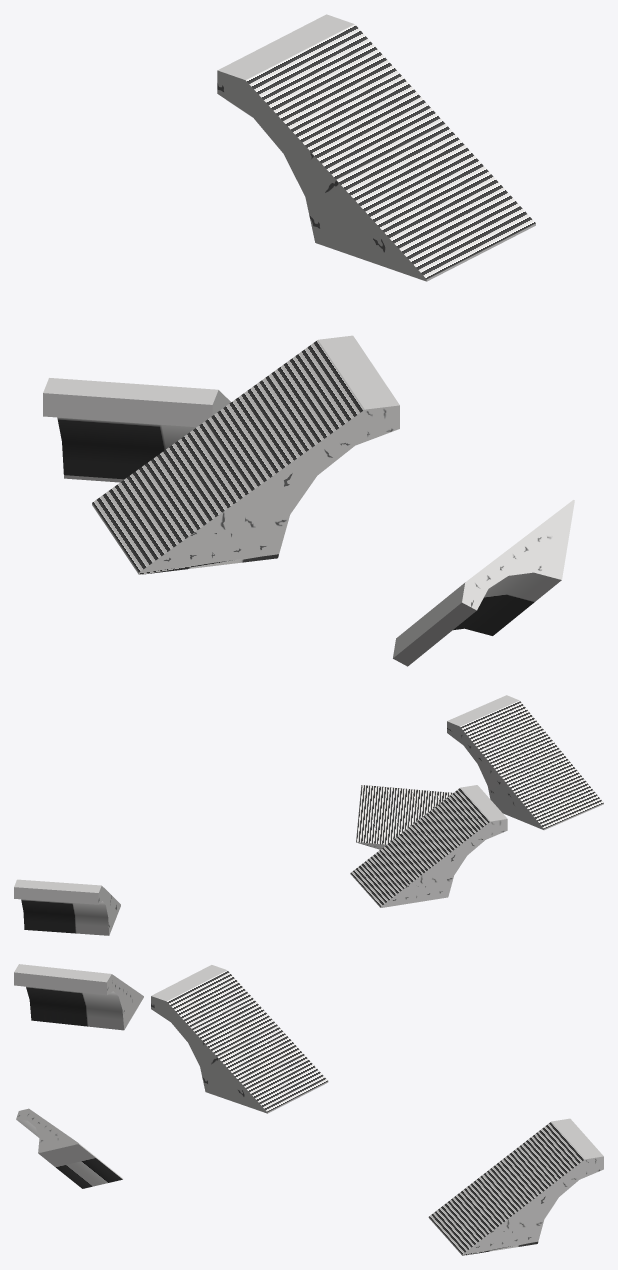
The model's file is Hondonada_Escaleras.fbx.
The picture shows the model from 3 angles, top to bottom: view 1: azimuth 30°, elevation 25°; view 2: azimuth 150°, elevation 25°; view 3: azimuth 270°, elevation 25°; orthographic projection. The views are drawn at different scales.
Visible parts, largest first — view 1: Cube.006, Cube.005, Cube.004, Cube.007; view 2: Cube.005, Cube.004, Cube.006, Cube.007; view 3: Cube.004, Cube.006, Cube.005, Cube.007.
Boxes of the visible parts, x1,y1,x2,y2 form: Cube.006: (217, 14, 535, 281); Cube.005: (92, 335, 399, 574); Cube.004: (43, 378, 230, 482); Cube.007: (393, 500, 574, 666); Cube.005: (447, 695, 603, 830); Cube.004: (350, 785, 507, 907); Cube.006: (14, 879, 120, 935); Cube.007: (356, 785, 452, 849); Cube.004: (151, 965, 328, 1113); Cube.006: (428, 1118, 603, 1255); Cube.005: (14, 964, 143, 1030); Cube.007: (16, 1108, 123, 1188).
Size of the model in its own units: 2656 by 1038 by 3179.
